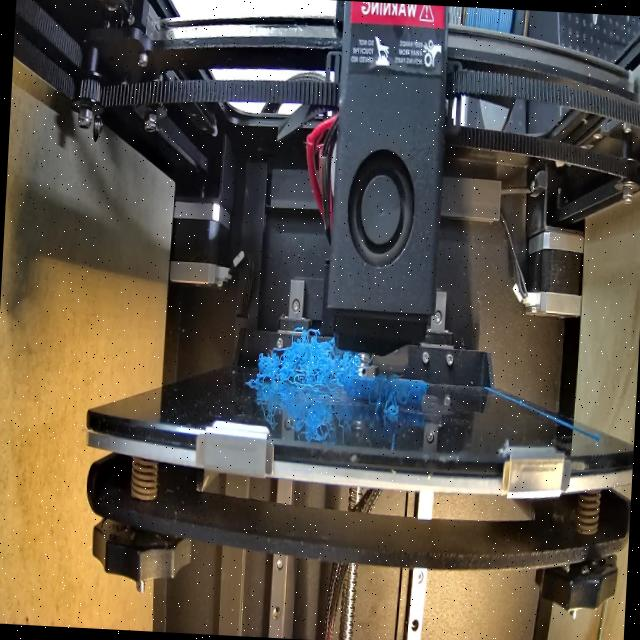spaghetti: (255, 338, 363, 398), (362, 373, 412, 426)
